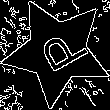P_SW: (26, 23, 88, 80)
